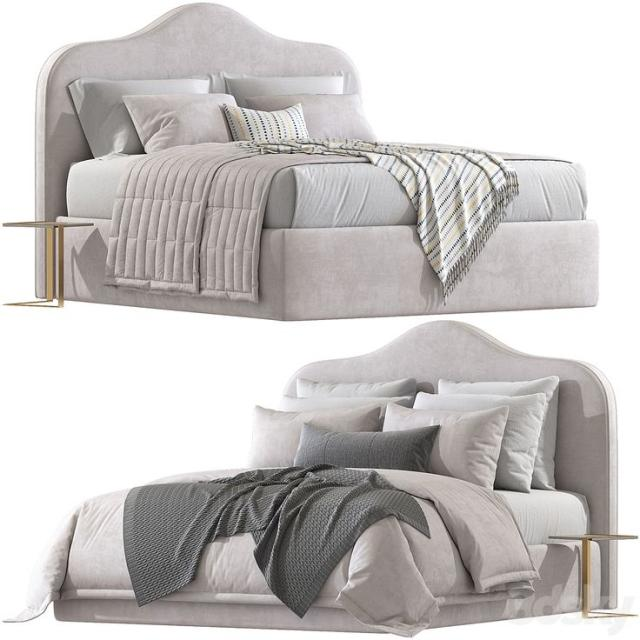obstacle: (2, 318, 621, 637), (32, 1, 600, 321)
